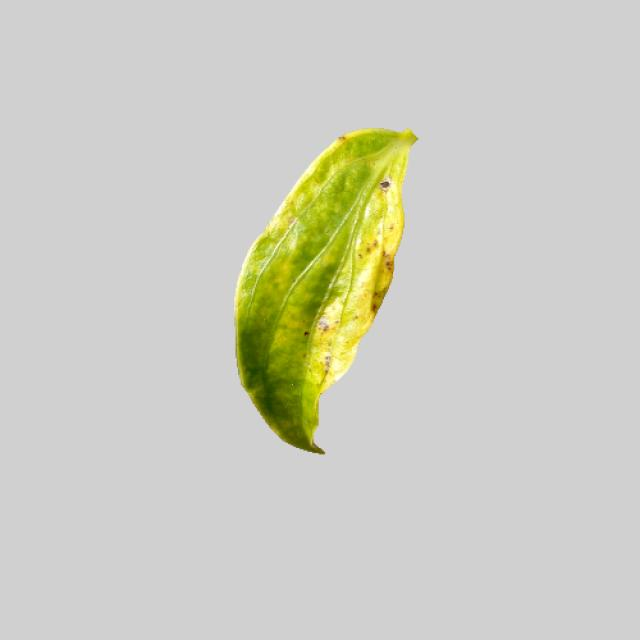yellow-mottle-virus: (228, 126, 418, 454)
